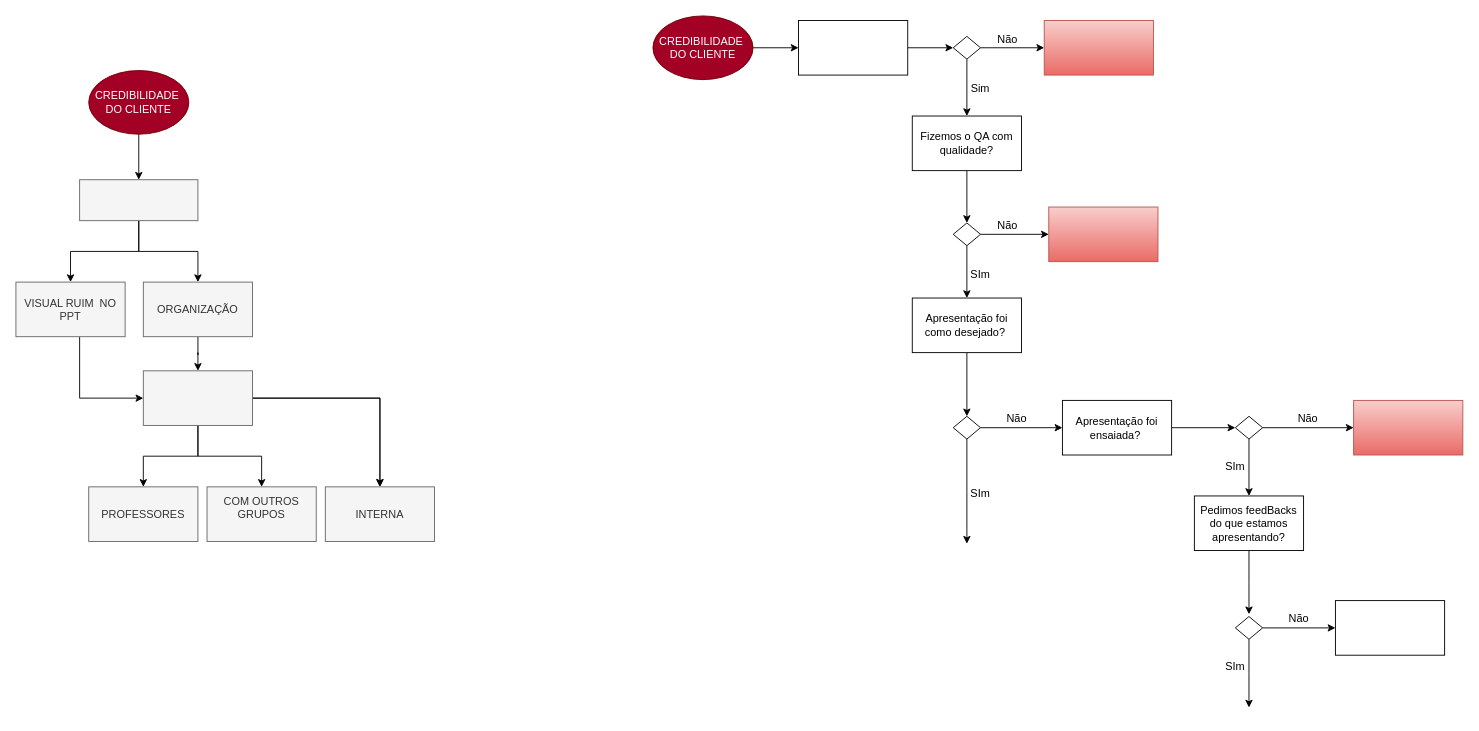
Image size: 1479x731. Some labels were removed from this diagram. Each missing label, with the centre of its shape:
"COMUNICAÇÃO" belongs at [197,397].
"Entregamos tudo que foi solicitado?" belongs at [853,47].
"MÁ APRESENTAÇÃO" belongs at [138,200].
